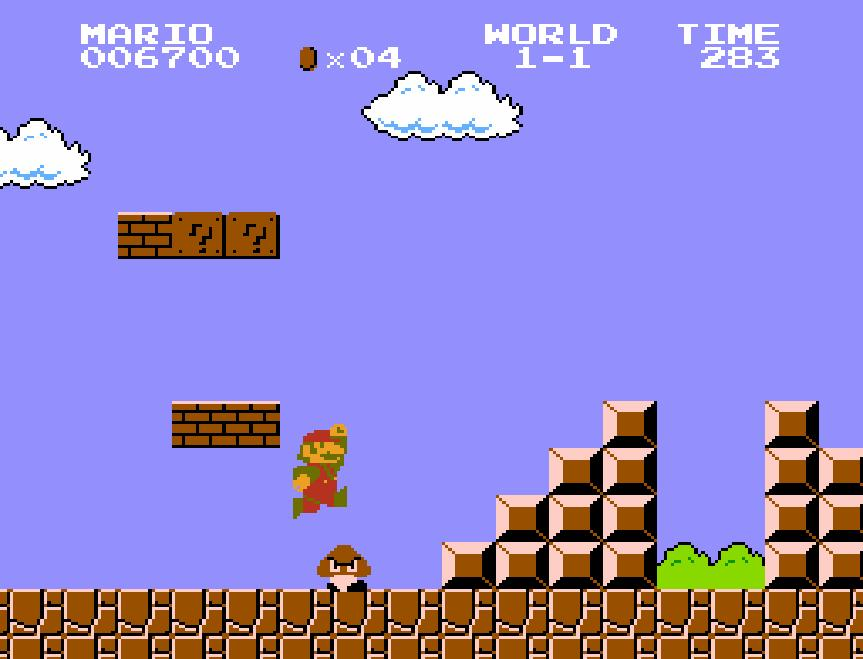big_mario: (291, 422, 349, 520)
